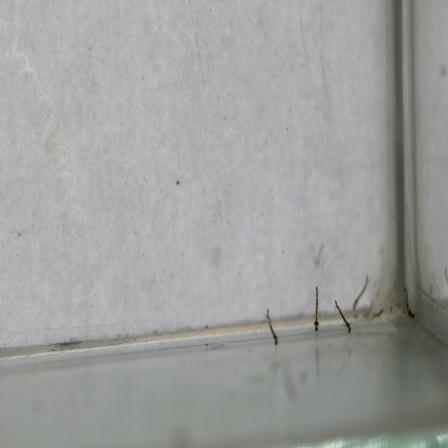Jentik-Nyamuk: (332, 297, 352, 337), (352, 272, 372, 312), (262, 304, 280, 347), (399, 286, 419, 322), (310, 284, 324, 335)
